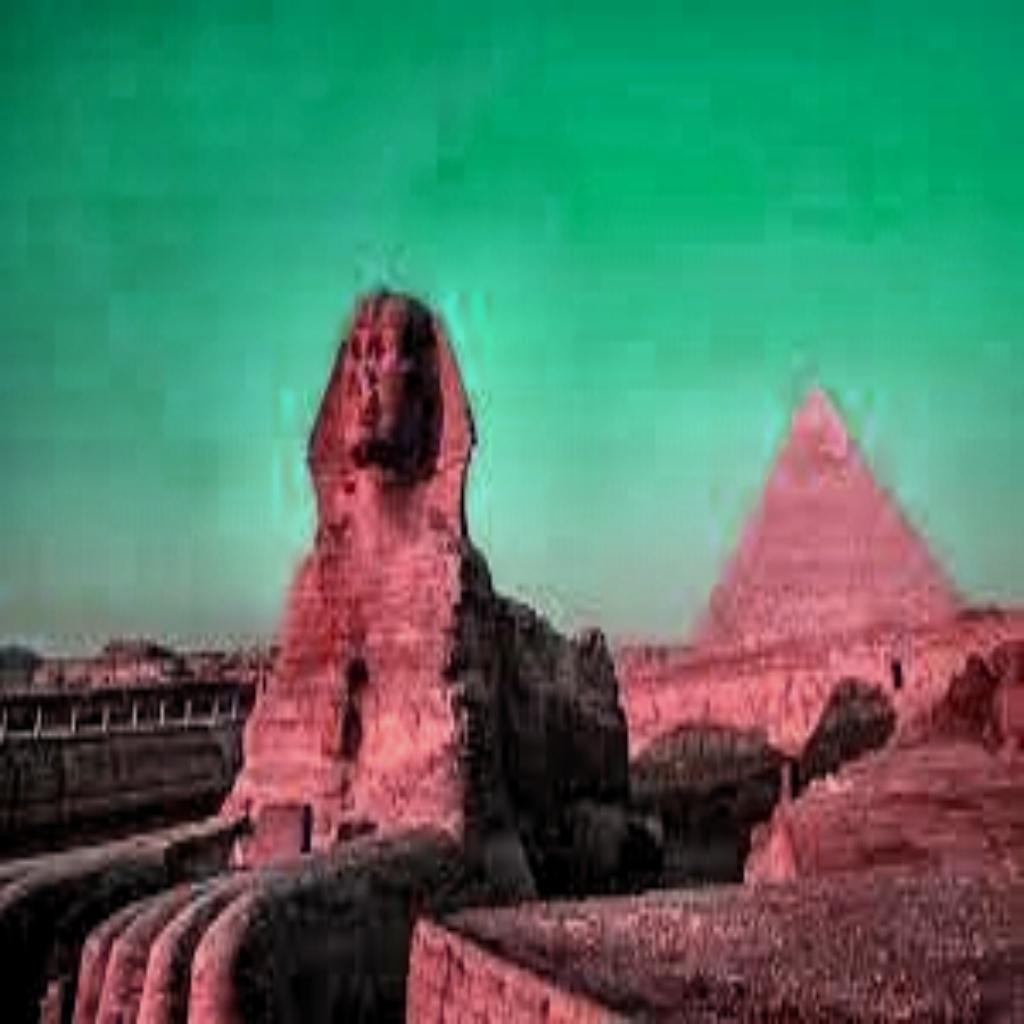Sphinx: (215, 280, 635, 896)
